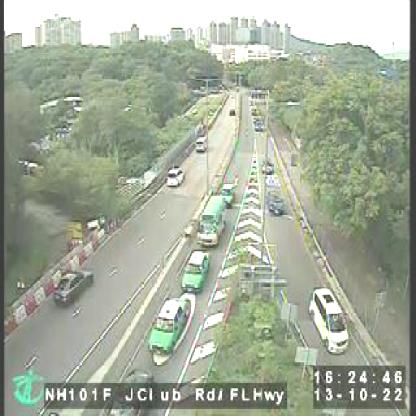Car: (309, 284, 351, 355), (148, 293, 192, 358), (180, 248, 212, 292), (268, 194, 286, 217), (166, 166, 185, 186), (222, 181, 236, 206), (194, 135, 208, 154)
Minibus: (196, 194, 228, 249)
